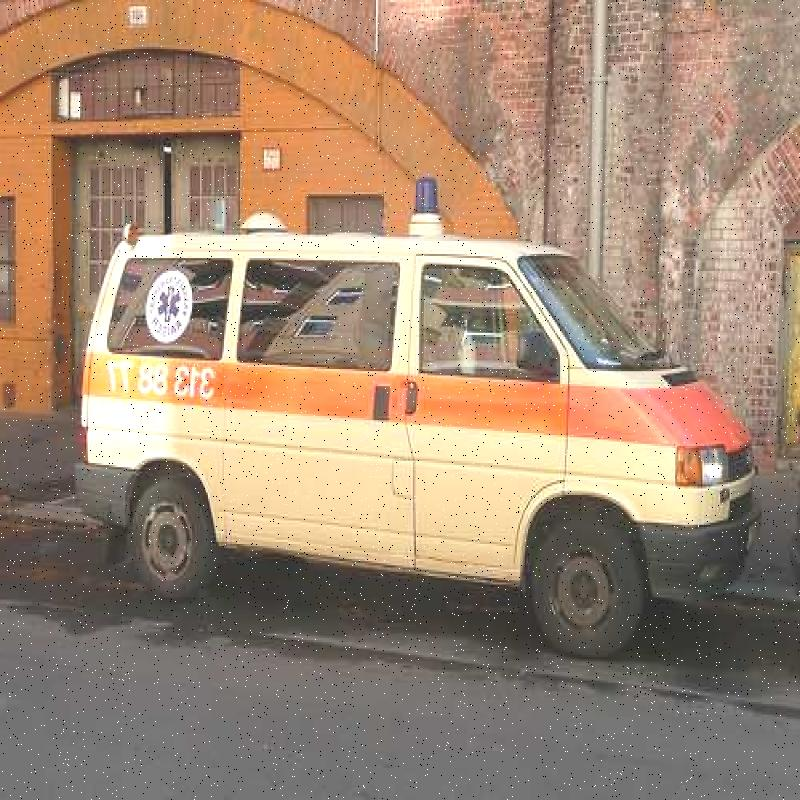AmbulanceSiren: (396, 158, 454, 234)
